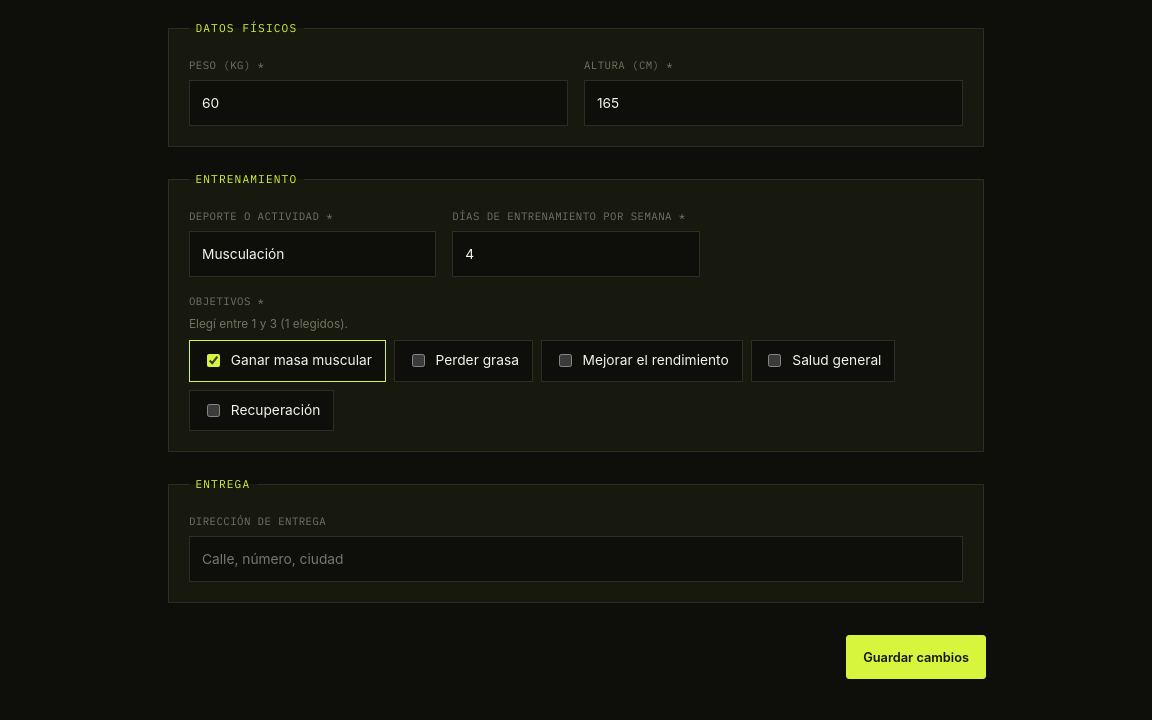
Test: ClientProfile › does not save when more than three goals are checked
The width and height of the screenshot is (1152, 720).
(page scrolled)
expect the button "Guardar cambios" is shown: met, box 846,635 -> 986,679
Click the checkbox labelled "Perder grasa".
click(418, 361)  # box 412,354 -> 424,367
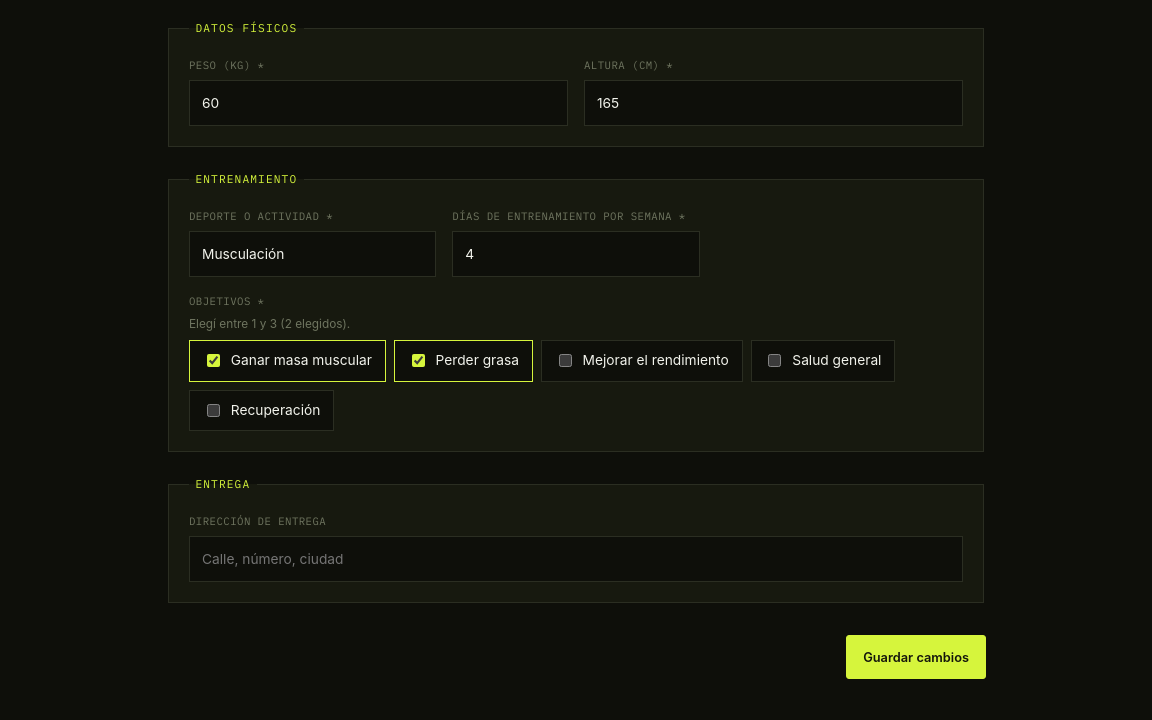
Click the checkbox labelled "Mejorar el rendimiento".
click(565, 361)  # box 559,354 -> 572,367
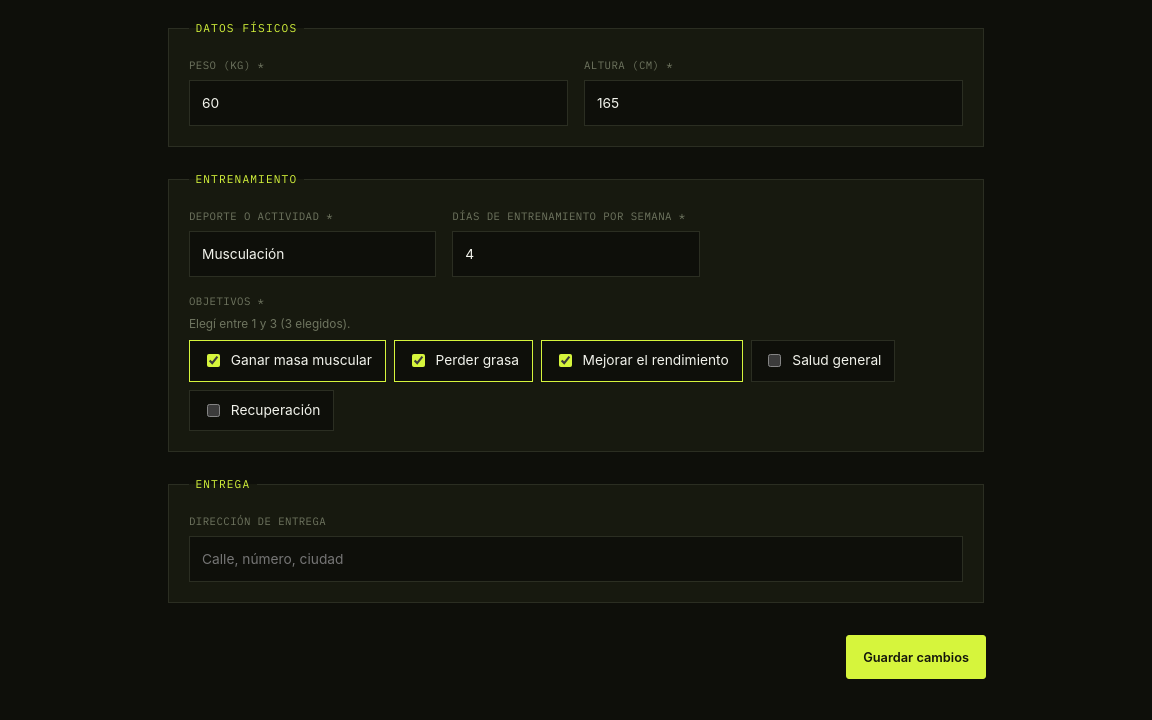
Click the checkbox labelled "Salud general".
click(775, 361)  # box 768,354 -> 781,367
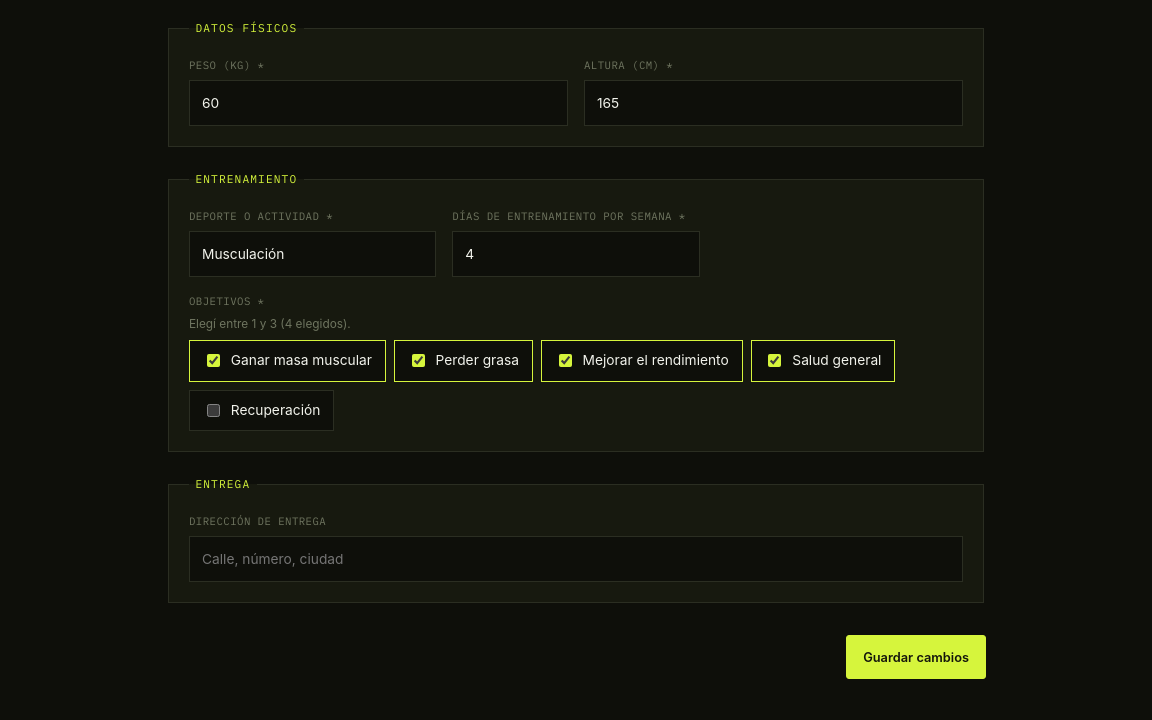
Click the button "Guardar cambios".
click(916, 657)  # box 846,635 -> 986,679
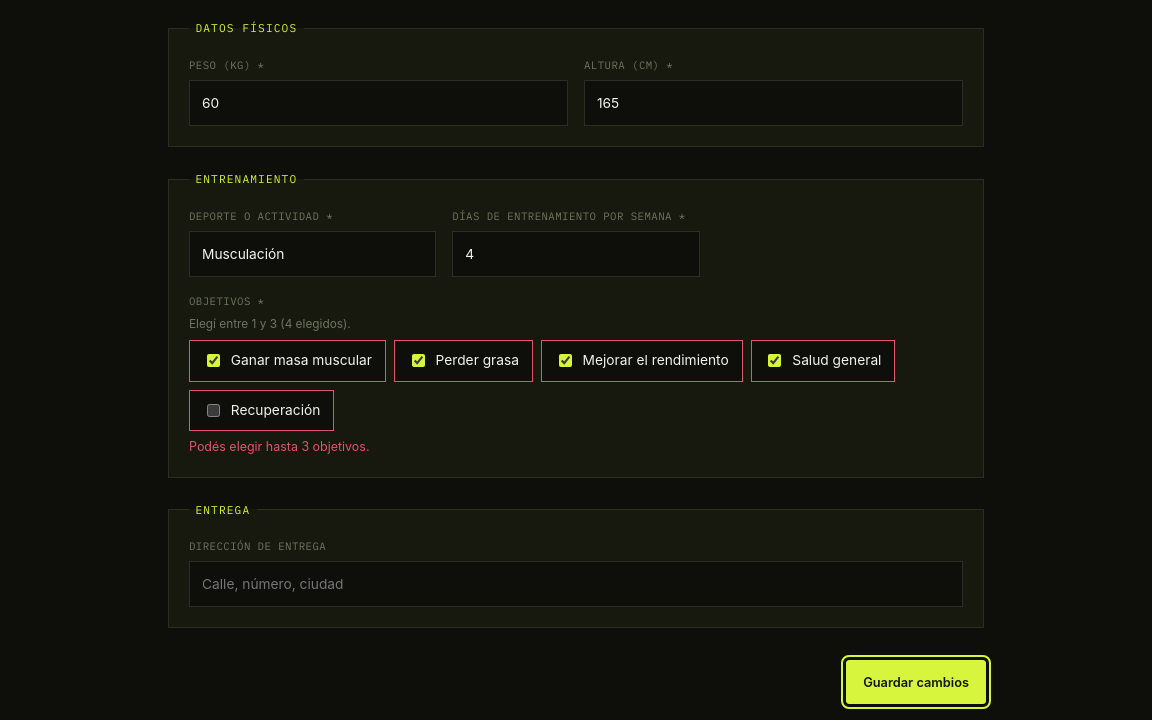
expect the text "Podés elegir hasta 3 objetivos." is shown: met, box 189,439 -> 370,454
